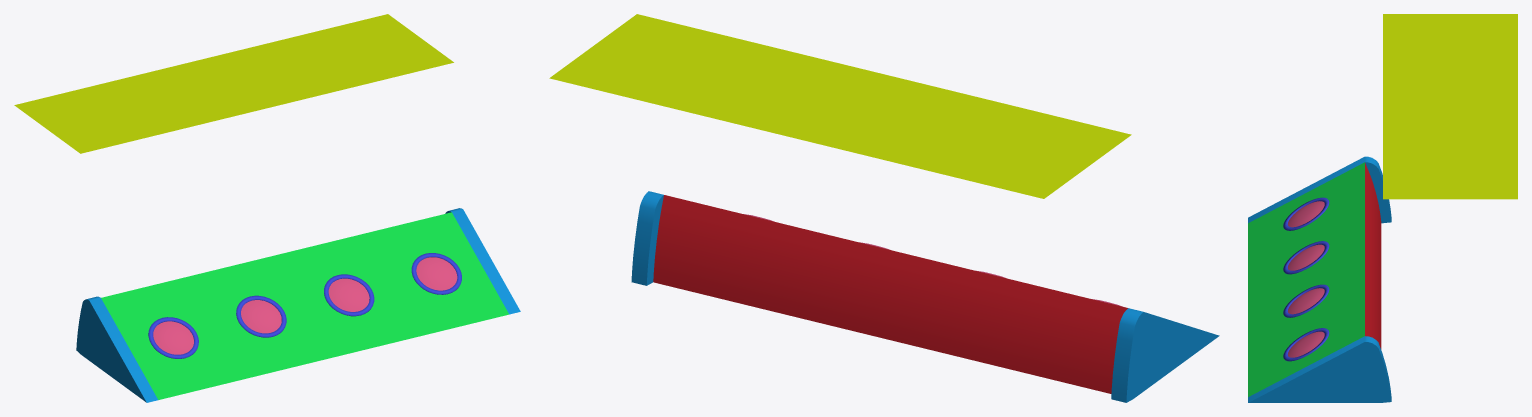
The model's file is SM_StartLine_Raw.fbx.
3 renders of one model, left to right at view 1: azimuth 30°, elevation 25°; view 2: azimuth 150°, elevation 25°; view 3: azimuth 270°, elevation 25°, orthographic. The views are drawn at different scales.
Visible parts, largest first — view 1: Plane; view 2: Plane; view 3: Plane.
Part boxes in pixels (x1=…): Plane: x1=14, y1=14, x2=520, y2=402; Plane: x1=549, y1=14, x2=1219, y2=402; Plane: x1=1248, y1=14, x2=1517, y2=402.
Size of the model in its own units: 650 by 333 by 400.
